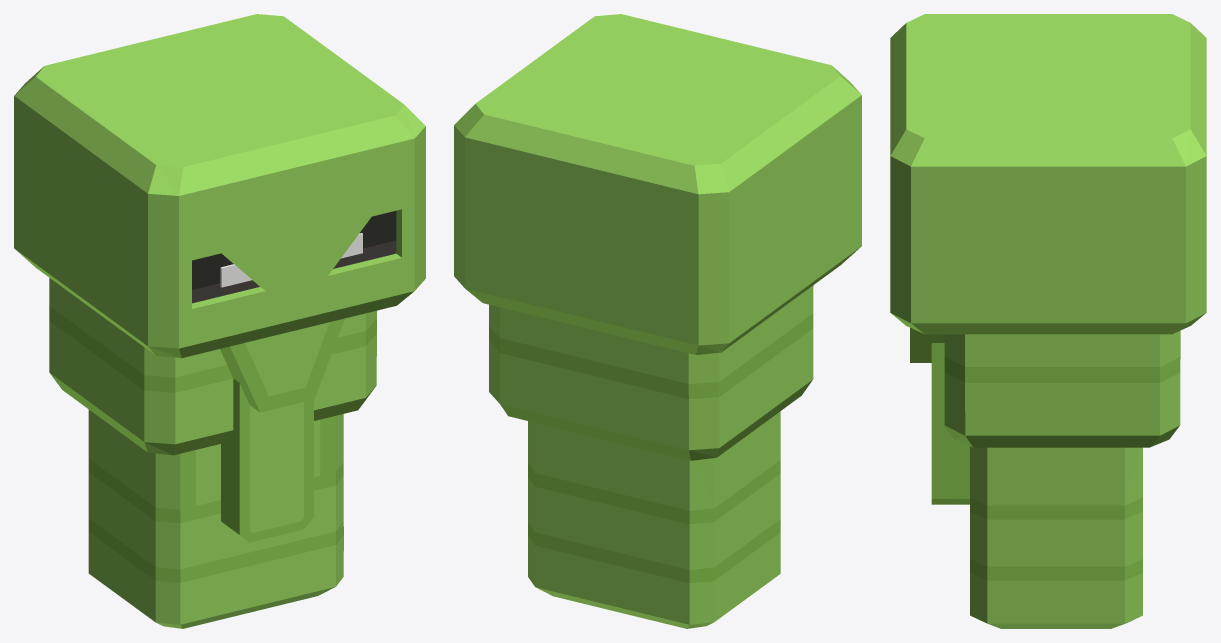
The model's file is model_shiny.obj.
3 views of the same model, side by side, from view 1: azimuth 30°, elevation 25°; view 2: azimuth 150°, elevation 25°; view 3: azimuth 270°, elevation 25° (orthographic). The views are drawn at different scales.
Visible parts, largest first — view 1: 0014_kakuna_shiny; view 2: 0014_kakuna_shiny; view 3: 0014_kakuna_shiny.
Boxes of the visible parts, bbox=[...] form: 0014_kakuna_shiny: bbox=[14, 14, 425, 628]; 0014_kakuna_shiny: bbox=[454, 14, 861, 628]; 0014_kakuna_shiny: bbox=[890, 14, 1206, 628].
Size of the model in its own units: 0.9743 by 1.67 by 0.9354.
Materials: 1 (1 with a texture image).
